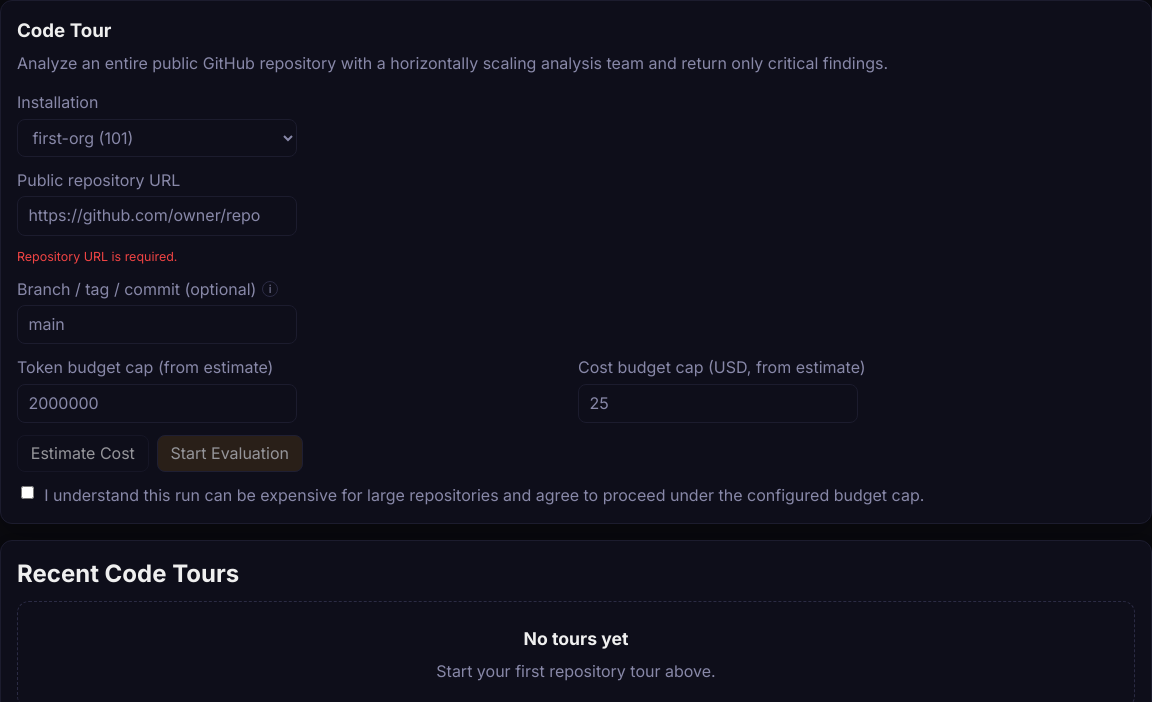
CodeTourPage › blocks actions and shows validation for invalid budget
The width and height of the screenshot is (1152, 702).
Step 1. Type "https://github.com/acme/repo" into the field with placeholder "https://github.com/owner/repo" → x=157, y=216, box 17,196 -> 297,236
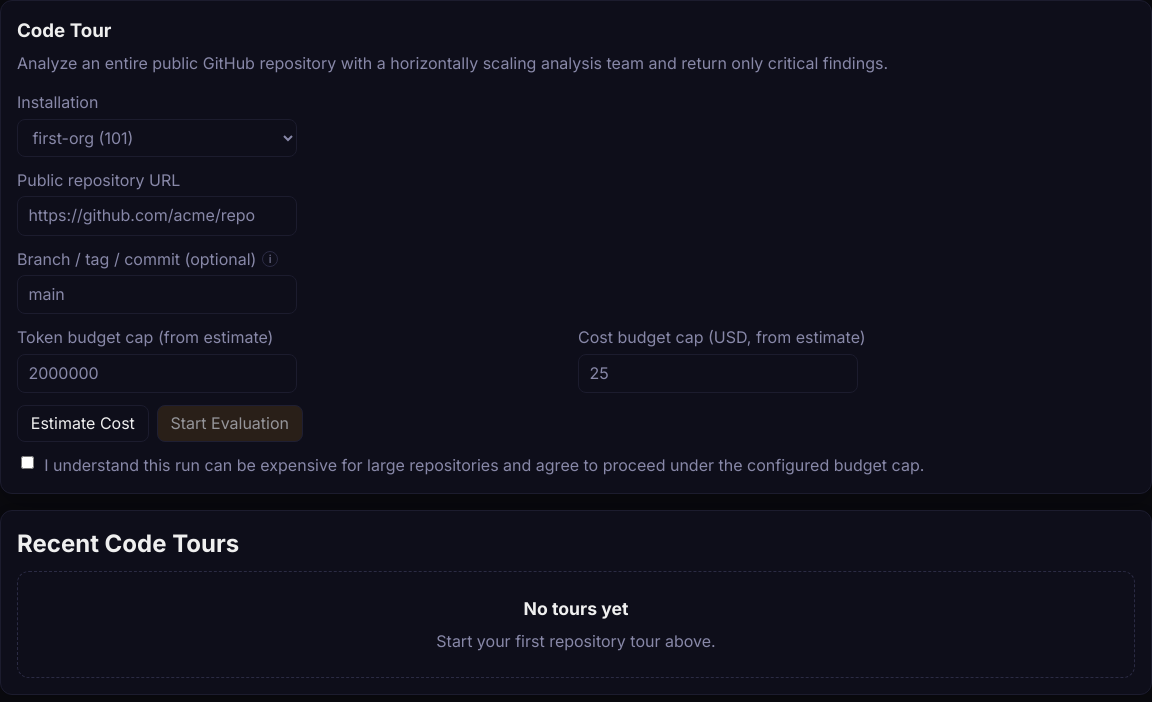
Step 2. Replace the text in the number field showing "2000000" with "9000" → x=157, y=373, box 17,354 -> 297,393
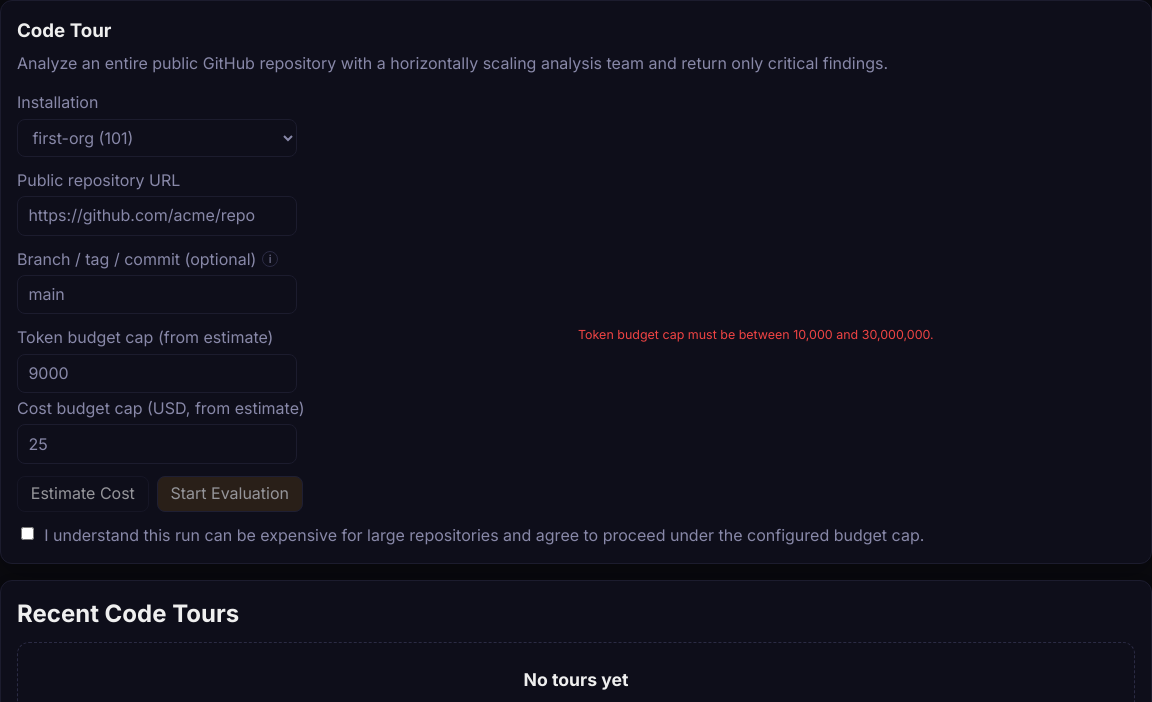
Expected: the button "Start Evaluation" is disabled, 157,476 -> 303,512
Now the text "Token budget cap must be between 10,000 and 30,000,000." is shown, box 578,327 -> 934,342
Now the button "Estimate Cost" is disabled, box 17,476 -> 149,512
